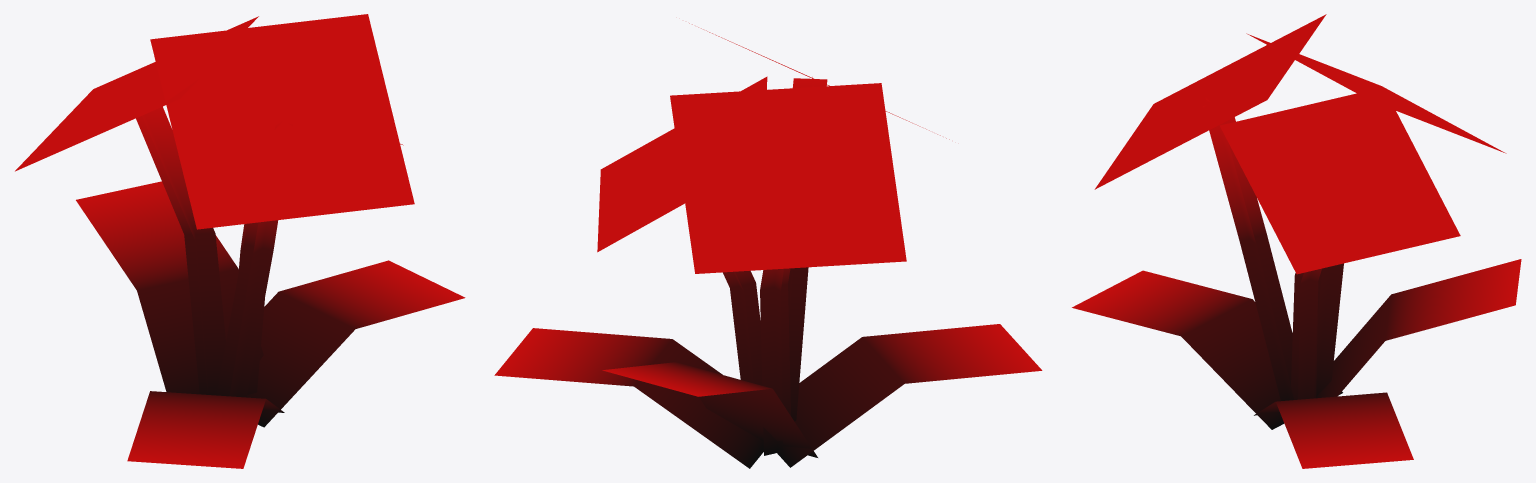
File: SM_Flower_05.fbx
3 views of the same model, side by side, from view 1: azimuth 30°, elevation 25°; view 2: azimuth 150°, elevation 25°; view 3: azimuth 270°, elevation 25° (orthographic). The views are drawn at different scales.
Parts seen in each view (by area): view 1: SM_Nature_Flower_05; view 2: SM_Nature_Flower_05; view 3: SM_Nature_Flower_05.
Part boxes in pixels (left/top/right/bottom): SM_Nature_Flower_05: left=15, top=14, right=465, bottom=468; SM_Nature_Flower_05: left=494, top=23, right=1042, bottom=468; SM_Nature_Flower_05: left=1072, top=14, right=1521, bottom=468.
Size of the model in its own units: 25.01 by 22.05 by 23.97.
